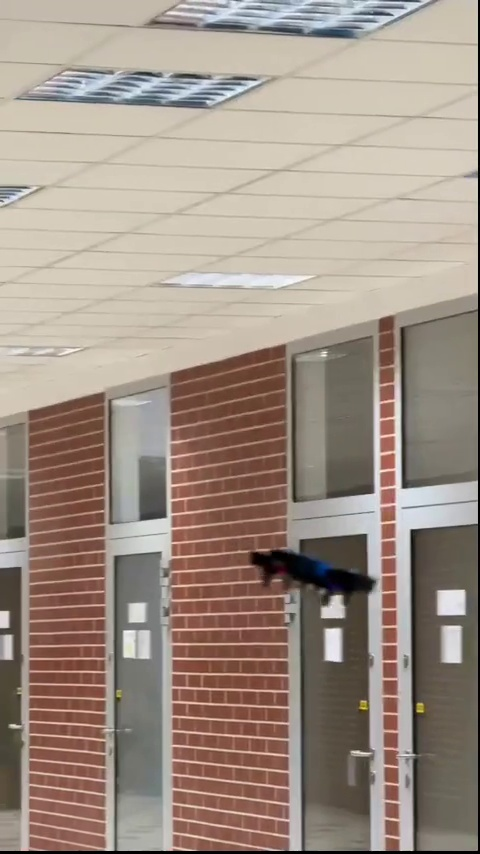drone: (249, 544, 373, 601)
